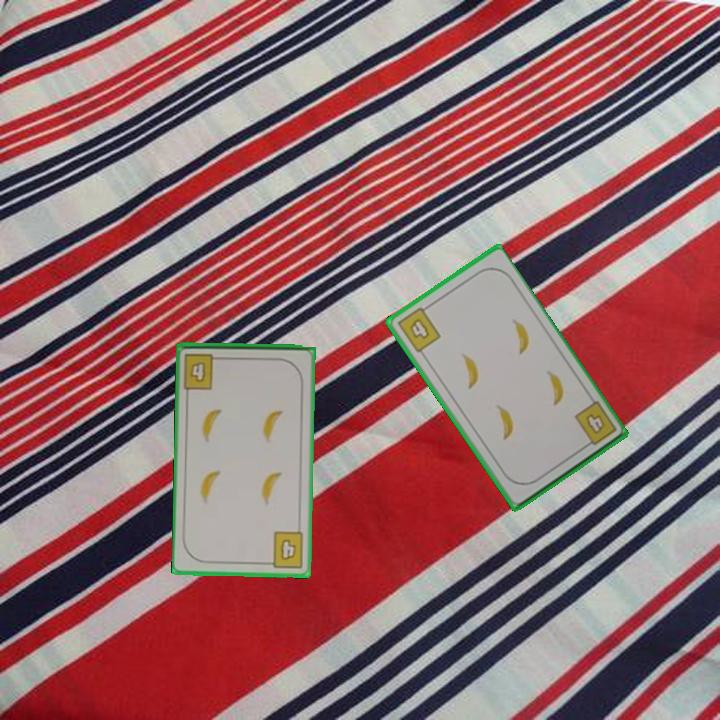4b: (393, 301, 444, 355), (571, 398, 619, 452), (262, 528, 307, 570), (180, 350, 225, 392)
